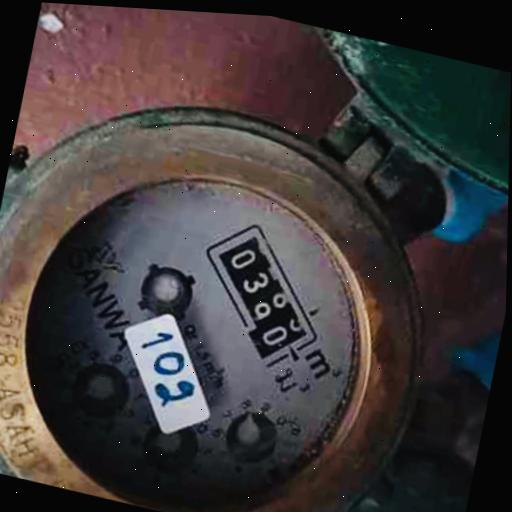0: (243, 299, 313, 369), (215, 228, 272, 285)
3: (225, 250, 286, 311)
8: (240, 276, 298, 335)
border_water_meter_number: (183, 209, 340, 380)
